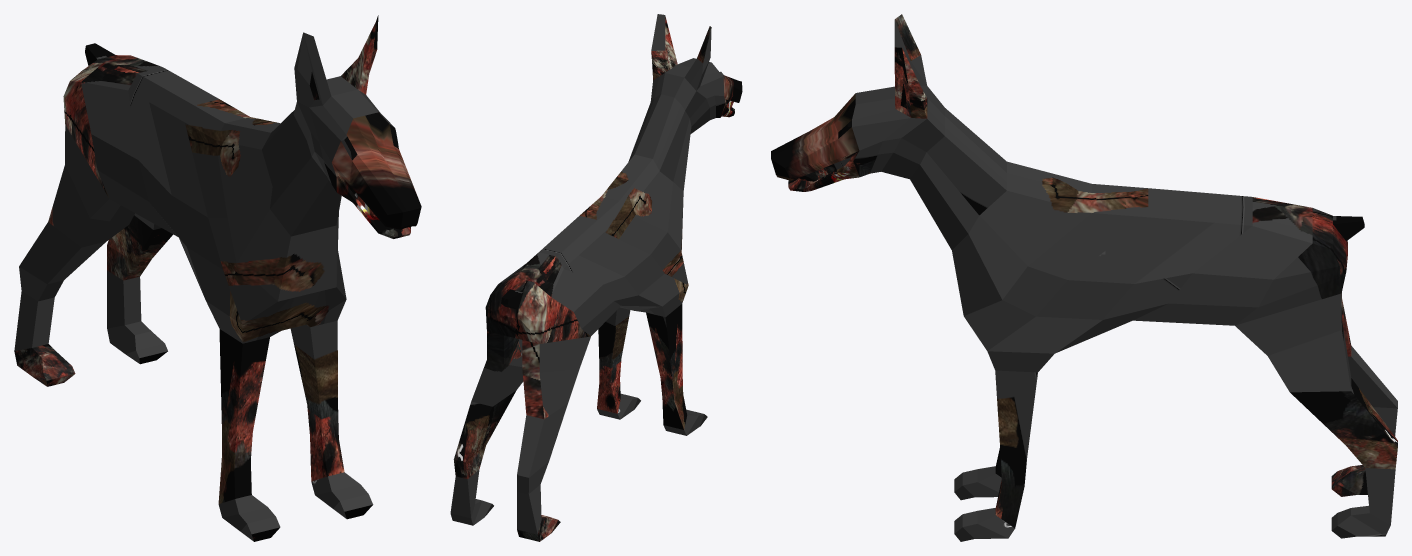
File: perro.obj
3 views of the same model, side by side, from view 1: azimuth 30°, elevation 25°; view 2: azimuth 150°, elevation 25°; view 3: azimuth 270°, elevation 25° (orthographic). The views are drawn at different scales.
Visible parts, largest first — view 1: Plane; view 2: Plane; view 3: Plane.
Boxes of the visible parts, box(x1,y1,x2,y2) form: Plane: box(14, 15, 421, 541); Plane: box(450, 14, 742, 541); Plane: box(771, 14, 1397, 541).
Size of the model in its own units: 8 by 33.22 by 38.78.
